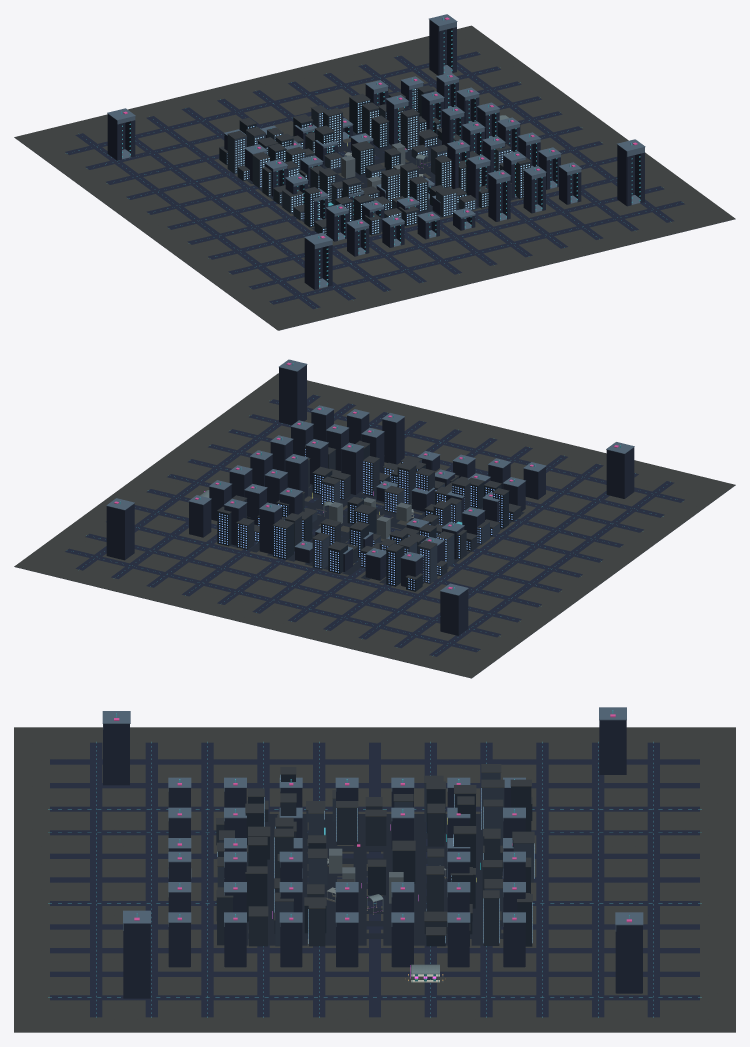
3 views of the same model, one above another, from view 1: azimuth 30°, elevation 25°; view 2: azimuth 150°, elevation 25°; view 3: azimuth 270°, elevation 25° (orthographic). The views are drawn at different scales.
Parts seen in each view (by area): view 1: Runtime FPV textured terrain neon, Runtime neon_1_0_0, Runtime neon_2_0_0, Runtime Material_7, Runtime Material_2, Runtime Material_1, Runtime Material_4, Runtime Material_3, Runtime neon_4_0_0, Runtime Material_170, Runtime Material_203, Runtime neon_0_0_0; view 2: Runtime FPV textured terrain neon, Runtime neon_1_0_0, Runtime neon_2_0_0, Runtime Material_1, Runtime Material_2, Runtime Material_7, Runtime Material_4, Runtime Material_3, Runtime Material_170, Runtime Material_203, Runtime neon_0_0_0; view 3: Runtime FPV textured terrain neon, Runtime neon_1_0_0, Runtime neon_2_0_0, Runtime Material_2, Runtime Material_170, Runtime Material_7, Runtime Material_1, Runtime Material_4, Runtime neon_4_0_0, Runtime Material_203, Runtime neon_3_0_0.
Part boxes in pixels (x1,y1,x2,y2): Runtime FPV textured terrain neon: (14,25,735,330); Runtime neon_1_0_0: (65,20,684,309); Runtime neon_2_0_0: (107,14,645,288); Runtime Material_7: (237,89,530,235); Runtime Material_2: (219,85,531,227); Runtime Material_1: (219,88,481,227); Runtime Material_4: (227,107,510,220); Runtime Material_3: (227,89,529,233); Runtime neon_4_0_0: (67,17,670,303); Runtime Material_170: (247,131,518,234); Runtime Material_203: (341,142,405,188); Runtime neon_0_0_0: (14,137,735,330); Runtime FPV textured terrain neon: (14,373,735,678); Runtime neon_1_0_0: (65,365,684,656); Runtime neon_2_0_0: (106,359,634,595); Runtime Material_1: (217,444,508,591); Runtime Material_2: (217,440,521,579); Runtime Material_7: (236,450,520,576); Runtime Material_4: (254,447,499,583); Runtime Material_3: (219,449,512,589); Runtime Material_170: (230,479,524,583); Runtime Material_203: (329,497,411,539); Runtime neon_0_0_0: (14,485,735,678); Runtime FPV textured terrain neon: (14,727,735,1032); Runtime neon_1_0_0: (50,720,699,1017); Runtime neon_2_0_0: (102,707,643,931); Runtime Material_2: (216,764,534,935); Runtime Material_170: (246,814,503,945); Runtime Material_7: (216,802,503,946); Runtime Material_1: (245,774,532,946); Runtime Material_4: (217,773,533,946); Runtime neon_4_0_0: (48,710,701,1017); Runtime Material_203: (329,848,403,903); Runtime neon_3_0_0: (114,714,631,922).
Bounding box in the file's own units: 880 × 106 × 880.
Materials: 30 (6 with a texture image).
